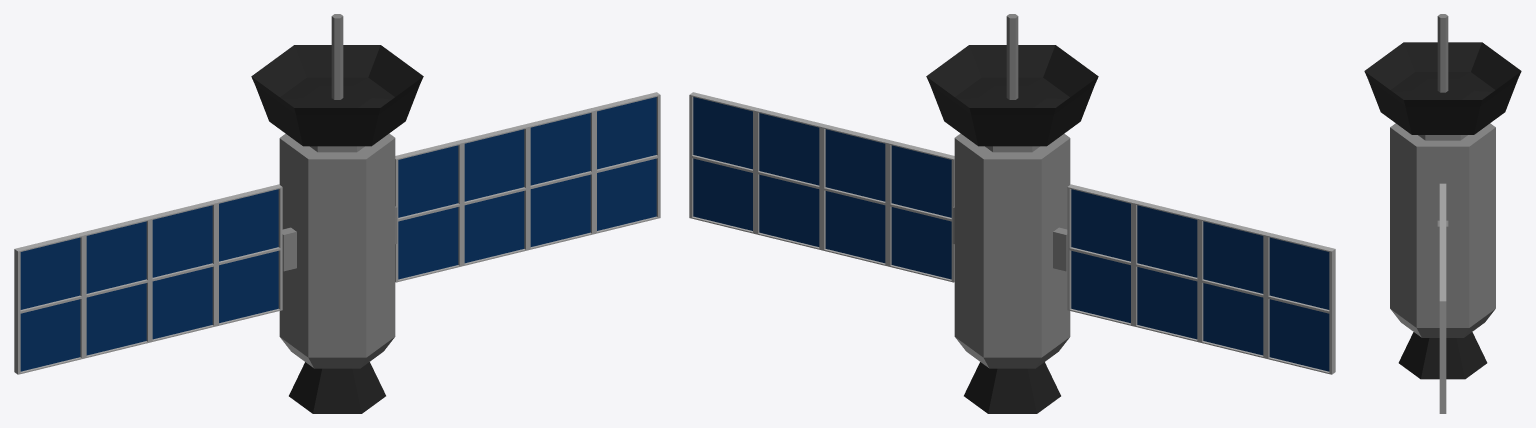
The model's file is Satelite 1.fbx.
The picture shows the model from 3 angles, left to right: view 1: azimuth 30°, elevation 25°; view 2: azimuth 150°, elevation 25°; view 3: azimuth 270°, elevation 25°; orthographic projection. The views are drawn at different scales.
Parts seen in each view (by area): view 1: Satelite 1 FINAL.001; view 2: Satelite 1 FINAL.001; view 3: Satelite 1 FINAL.001.
Boxes of the visible parts, x1,y1,x2,y2 form: Satelite 1 FINAL.001: (14, 14, 660, 413); Satelite 1 FINAL.001: (689, 14, 1335, 413); Satelite 1 FINAL.001: (1364, 14, 1521, 413).
Size of the model in its own units: 1277 by 722 by 297.
Materials: 1 (1 with a texture image).
